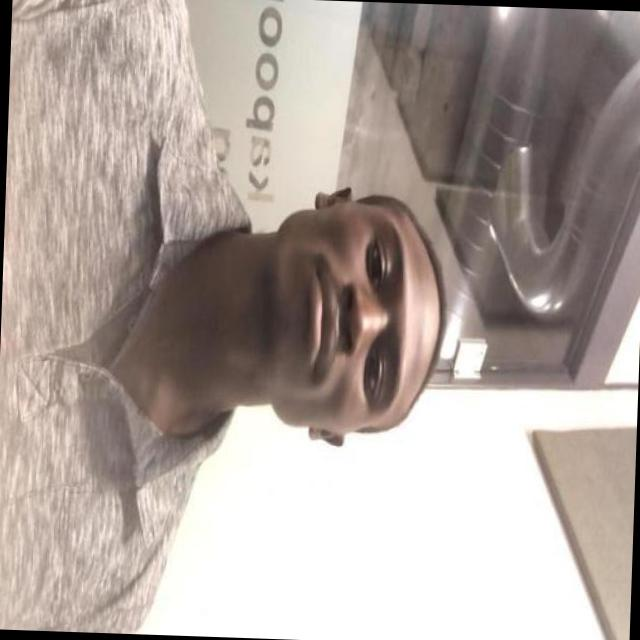bareface: (240, 164, 456, 477)
